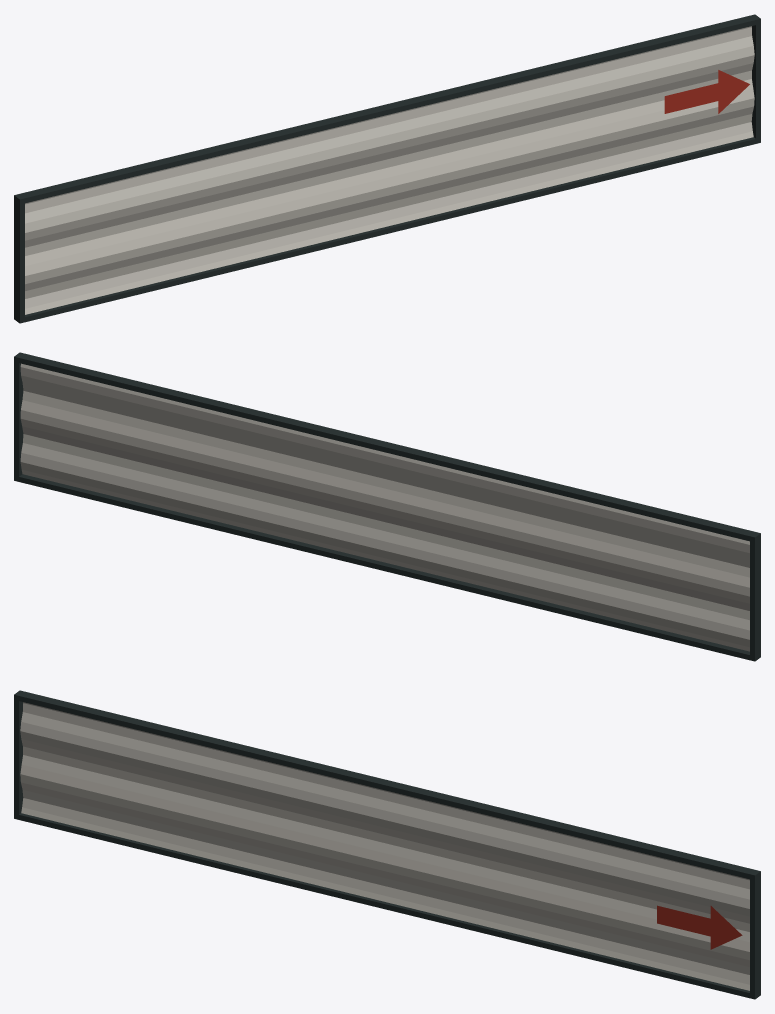
Rendered from bang_giu_xe_thang_48.glb.
3 views of the same model, one above another, from view 1: azimuth 30°, elevation 25°; view 2: azimuth 150°, elevation 25°; view 3: azimuth 330°, elevation 25° (orthographic).
Visible parts, largest first — view 1: bang_giu_xe_thang_48; view 2: bang_giu_xe_thang_48; view 3: bang_giu_xe_thang_48.
Boxes of the visible parts, x1=… form: bang_giu_xe_thang_48: x1=14, y1=14, x2=760, y2=323; bang_giu_xe_thang_48: x1=14, y1=352, x2=760, y2=661; bang_giu_xe_thang_48: x1=14, y1=690, x2=760, y2=999.
Bounding box in the file's own units: 4.5 × 0.72 × 0.072.
